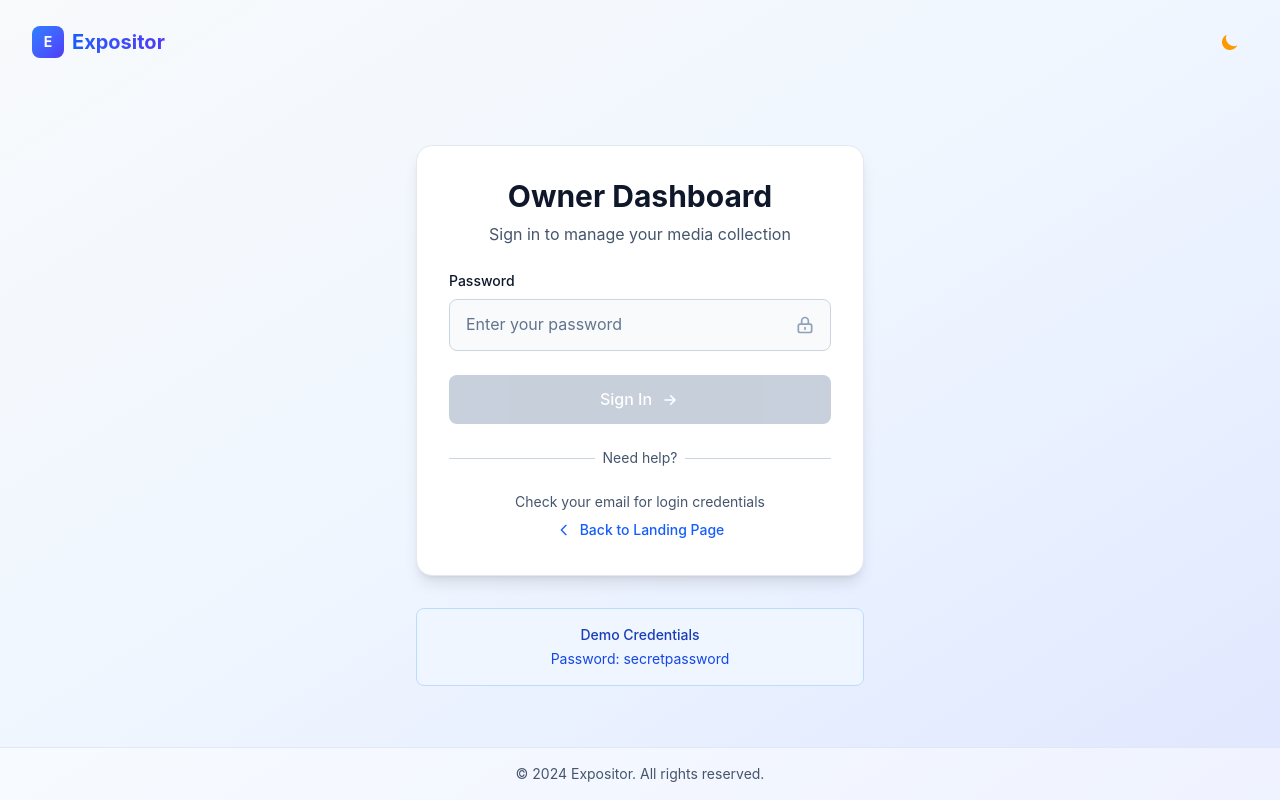
Login › shows error on failed login
Type "wrongpassword" into the password field labelled "Password". click: coordinates (640, 325)
box: [449,299,831,351]
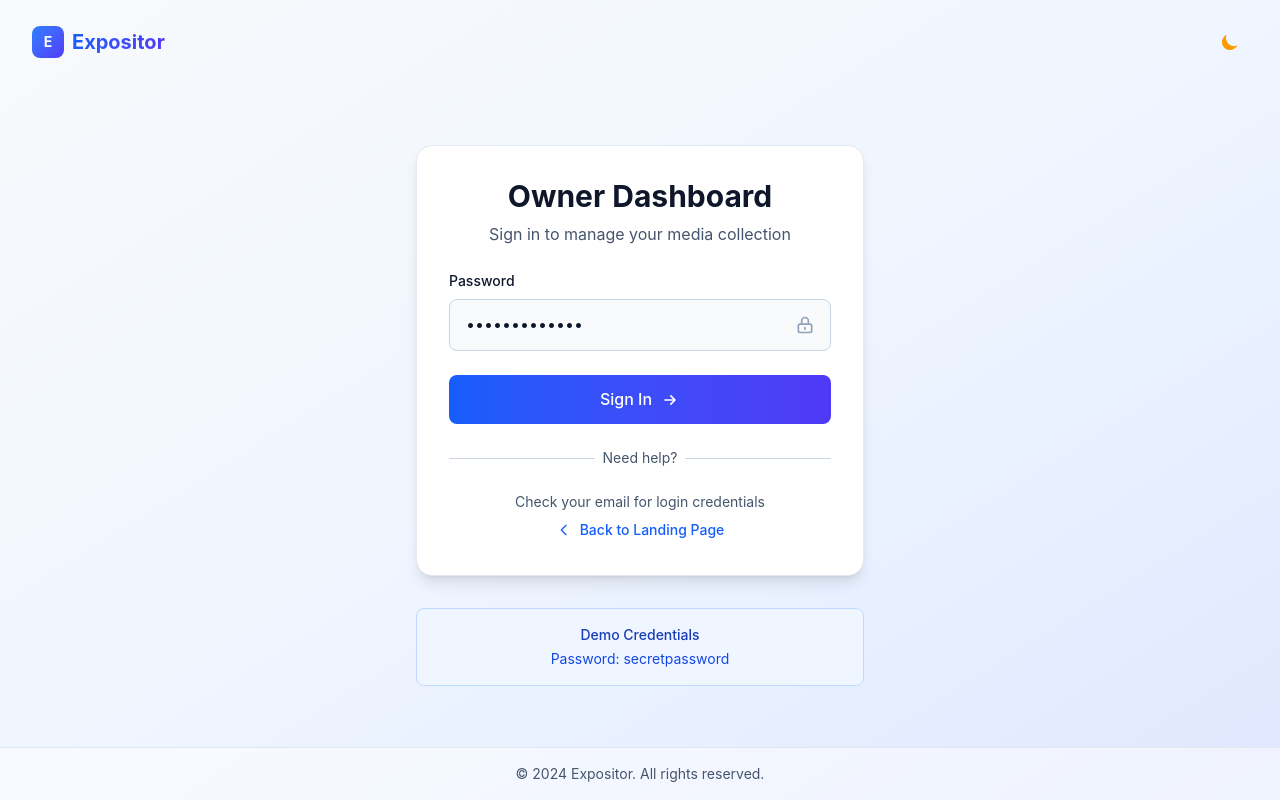
Click the button "Sign In". click: coordinates (640, 400)
box: [449,375,831,424]
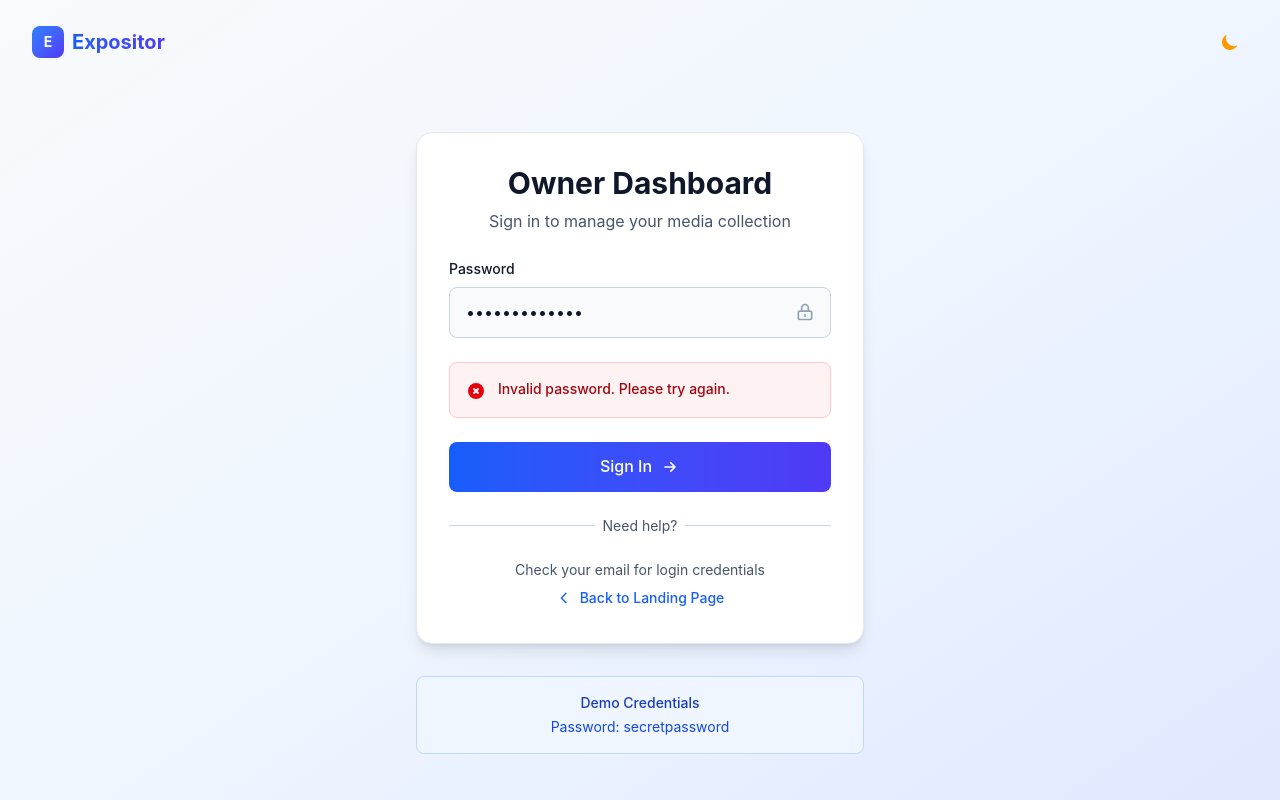
Expected: the message reads "Invalid password. Please try again.", [498,380,730,397]
